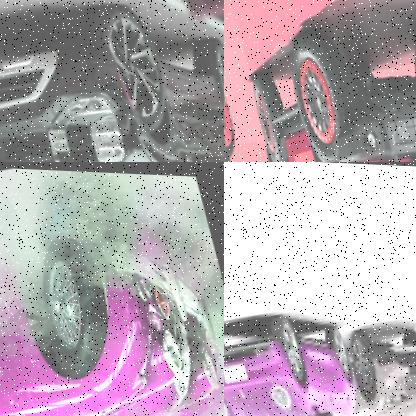car: (0, 222, 224, 416), (228, 0, 416, 162), (224, 296, 363, 416), (335, 314, 416, 416)
